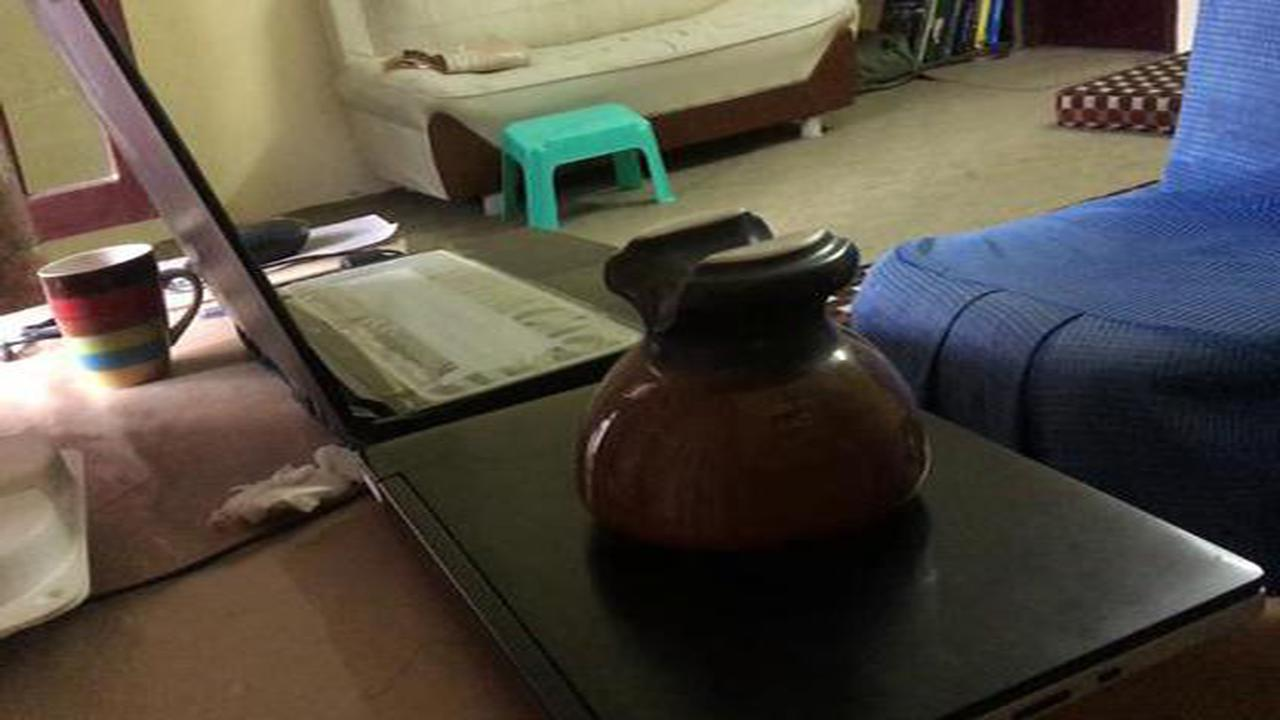insulator_pin: (561, 203, 957, 586)
